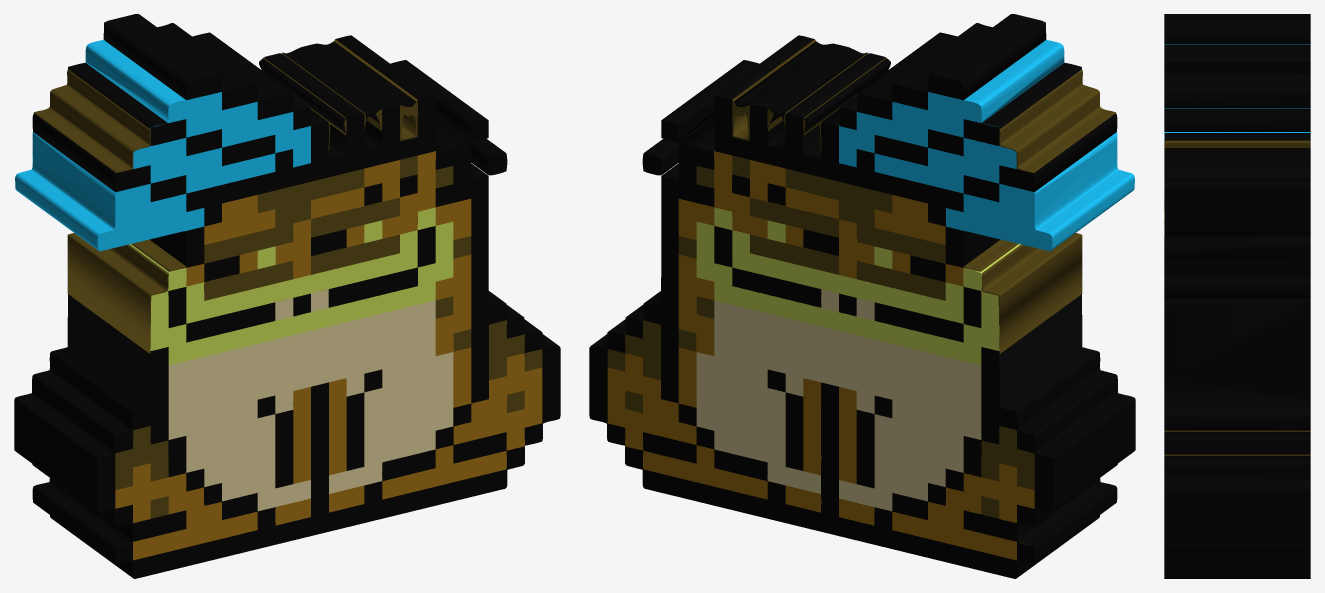
File: Toadz_6636.glb
3 views of the same model, side by side, from view 1: azimuth 30°, elevation 25°; view 2: azimuth 150°, elevation 25°; view 3: azimuth 270°, elevation 25° (orthographic). The views are drawn at different scales.
Visible parts, largest first — view 1: Curve; view 2: Curve; view 3: Curve.
Boxes of the visible parts, bbox=[...] form: Curve: bbox=[14, 14, 560, 578]; Curve: bbox=[589, 14, 1135, 578]; Curve: bbox=[1164, 14, 1310, 578].
Size of the model in its own units: 3.24 by 3.24 by 1.
